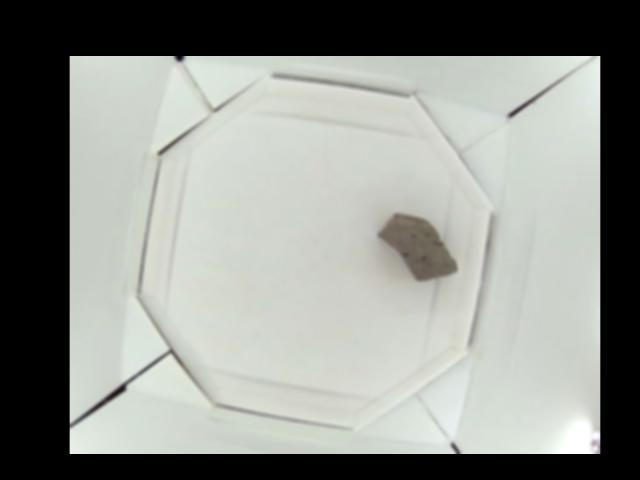China: (378, 211, 457, 282)
